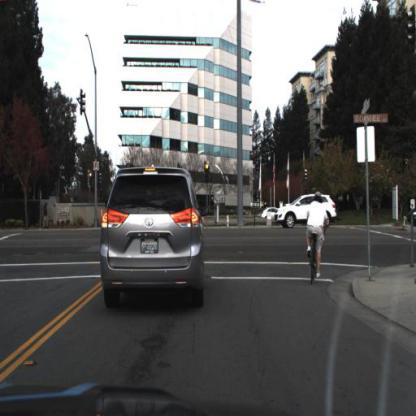biker: (303, 190, 328, 288)
car: (98, 160, 207, 317), (275, 188, 336, 233), (260, 206, 280, 222)
trafficLight-Red: (204, 161, 213, 190), (205, 164, 211, 180), (89, 174, 93, 190)
